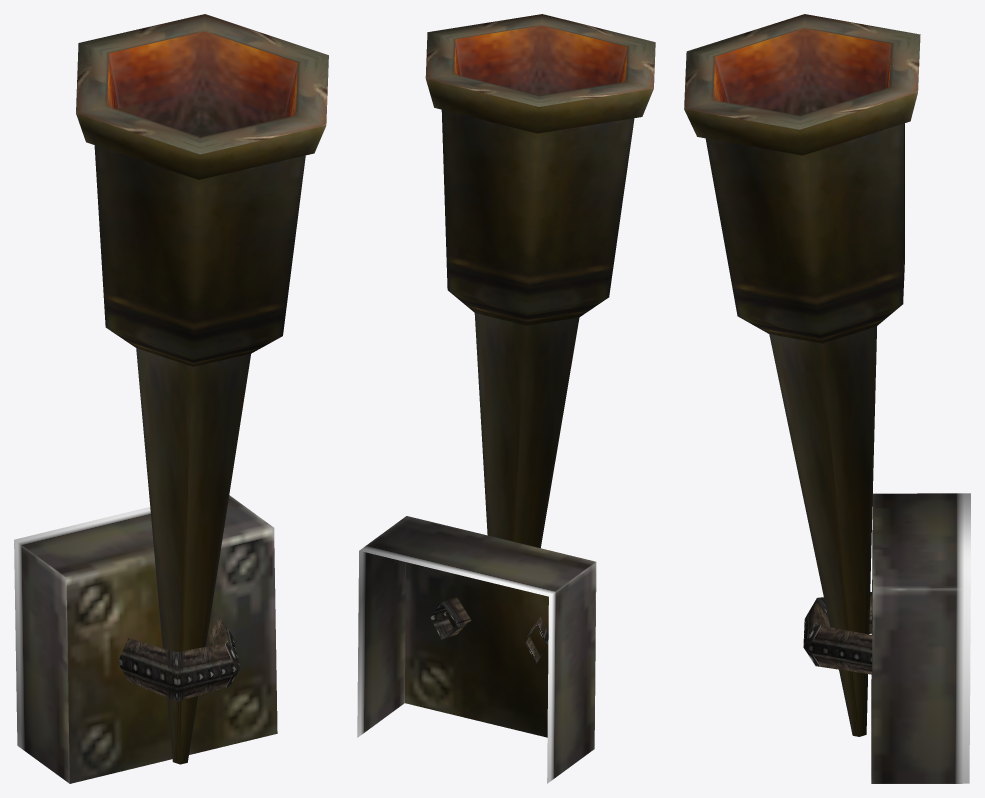
File: S_Build_Muxue021.FBX
3 views of the same model, side by side, from view 1: azimuth 30°, elevation 25°; view 2: azimuth 150°, elevation 25°; view 3: azimuth 270°, elevation 25° (orthographic). The views are drawn at different scales.
Parts seen in each view (by area): view 1: S_Build_Muxue021; view 2: S_Build_Muxue021; view 3: S_Build_Muxue021.
Boxes of the visible parts, bbox=[...] form: S_Build_Muxue021: bbox=[14, 14, 328, 783]; S_Build_Muxue021: bbox=[357, 14, 655, 783]; S_Build_Muxue021: bbox=[684, 14, 970, 783].
Size of the model in its own units: 78.24 by 82.62 by 213.
